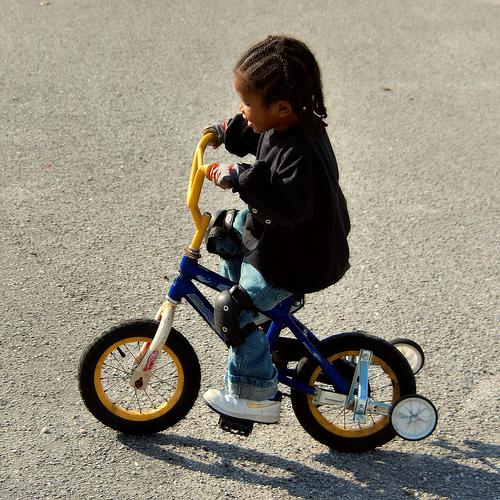person: (202, 33, 352, 424)
